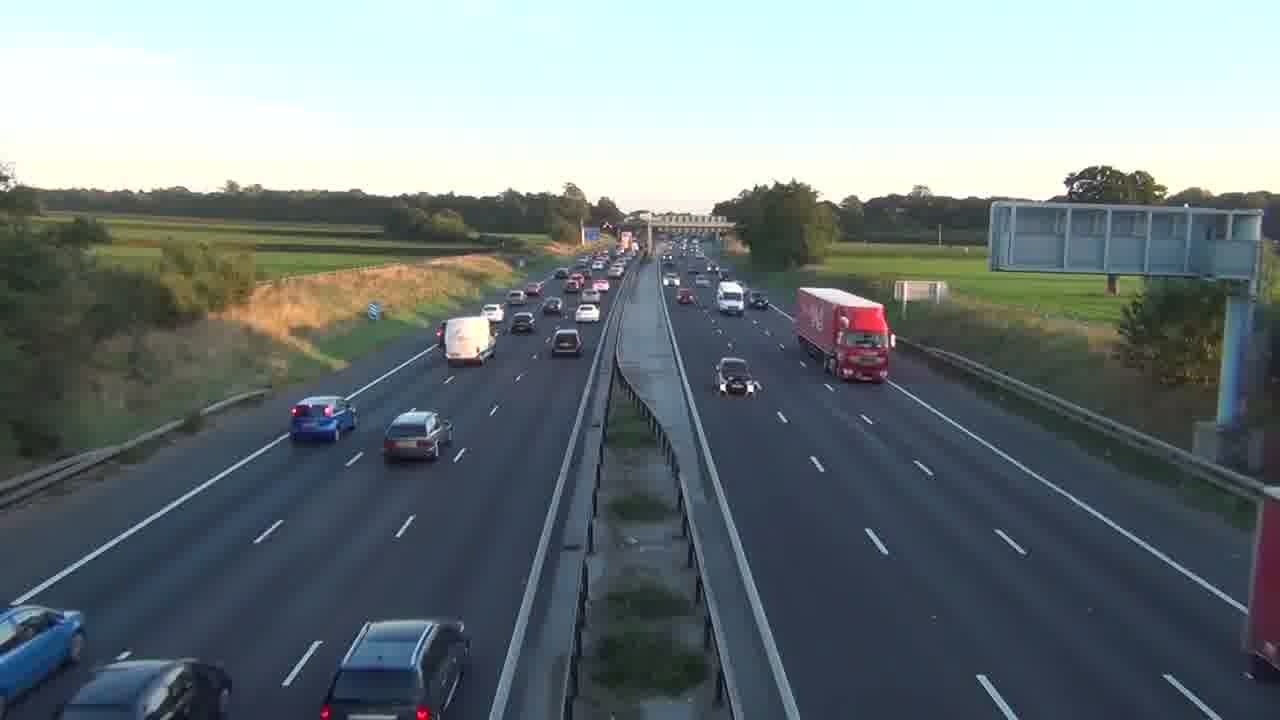bus: (793, 285, 892, 383)
car: (319, 617, 472, 719), (59, 655, 233, 719), (0, 604, 87, 712), (382, 409, 454, 462), (289, 395, 357, 443), (716, 280, 745, 316), (550, 327, 583, 358), (509, 311, 535, 334), (541, 295, 564, 315)
truck: (793, 285, 892, 383), (444, 316, 497, 367)
